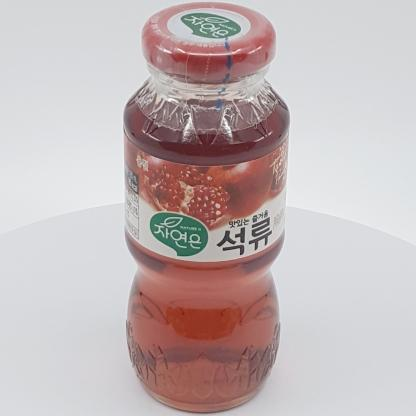-------180ML: (122, 2, 290, 412)
